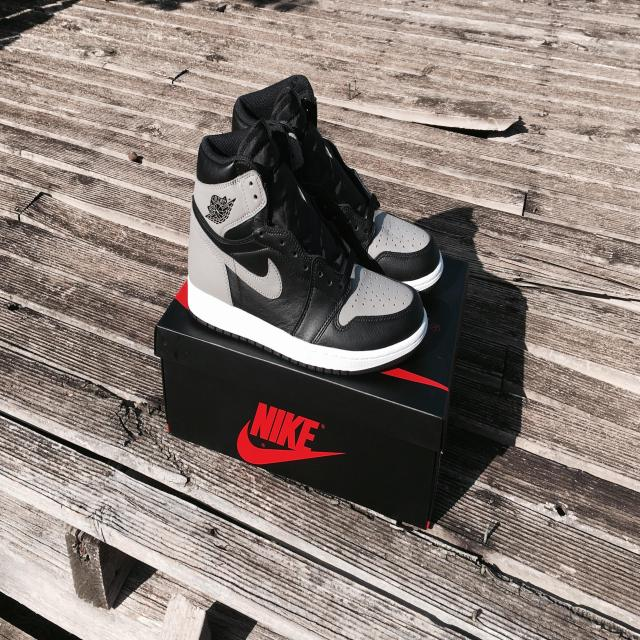shoe: (182, 135, 439, 374), (222, 71, 489, 288)
